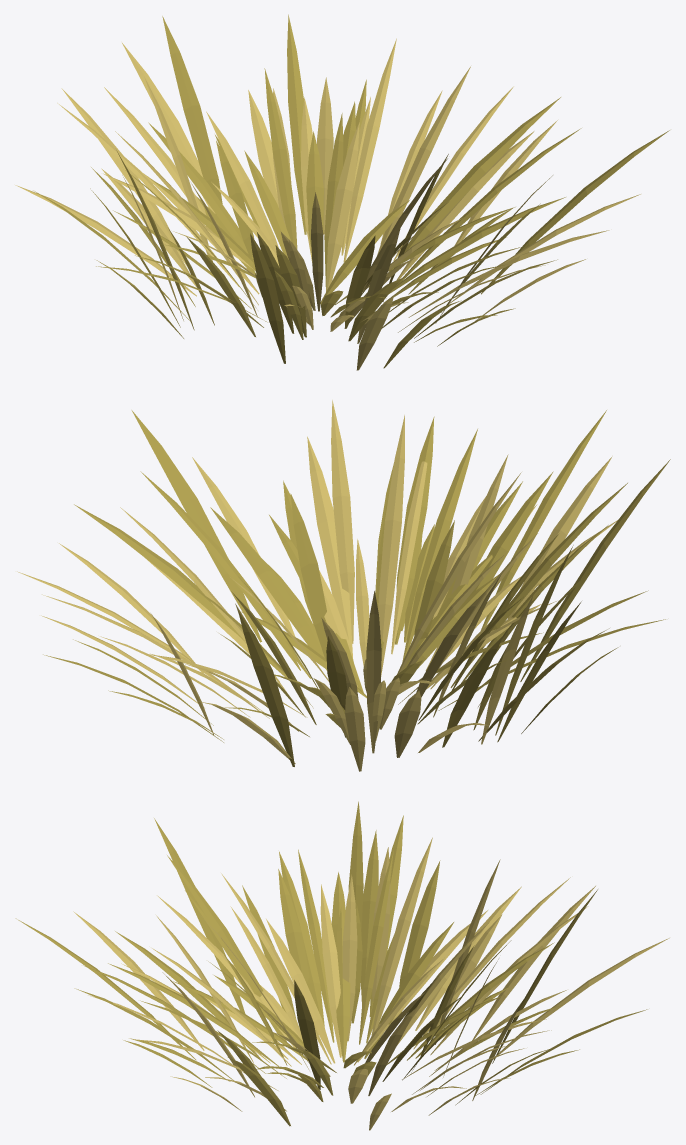
Rendered from grass_dry.glb.
3 renders of one model, top to bottom at view 1: azimuth 30°, elevation 25°; view 2: azimuth 150°, elevation 25°; view 3: azimuth 270°, elevation 25°, orthographic. The views are drawn at different scales.
Visible parts, largest first — view 1: grass_dry; view 2: grass_dry; view 3: grass_dry.
Boxes of the visible parts, x1=… form: grass_dry: x1=15, y1=14, x2=669, y2=370; grass_dry: x1=17, y1=400, x2=670, y2=771; grass_dry: x1=15, y1=801, x2=669, y2=1130.
Bounding box in the file's own units: 1.43 × 0.4989 × 1.65.
